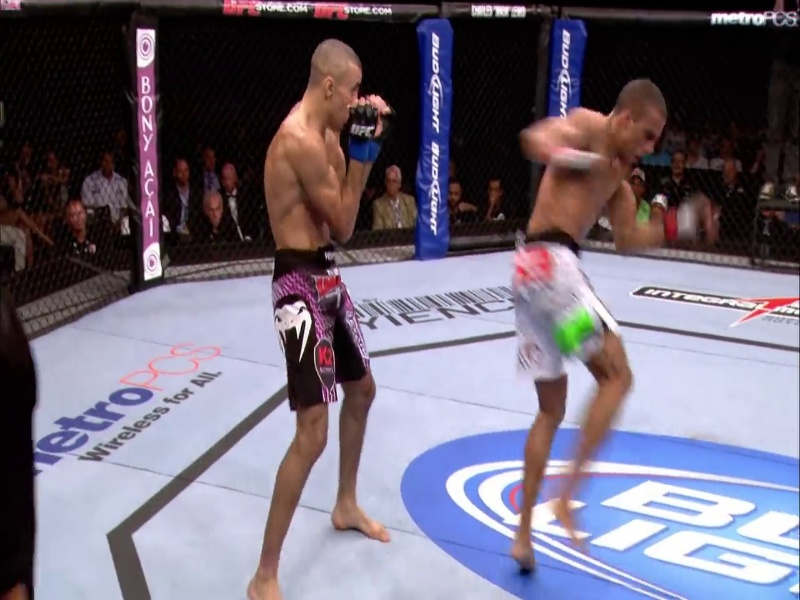fighter: (504, 71, 702, 580), (241, 37, 395, 598)
